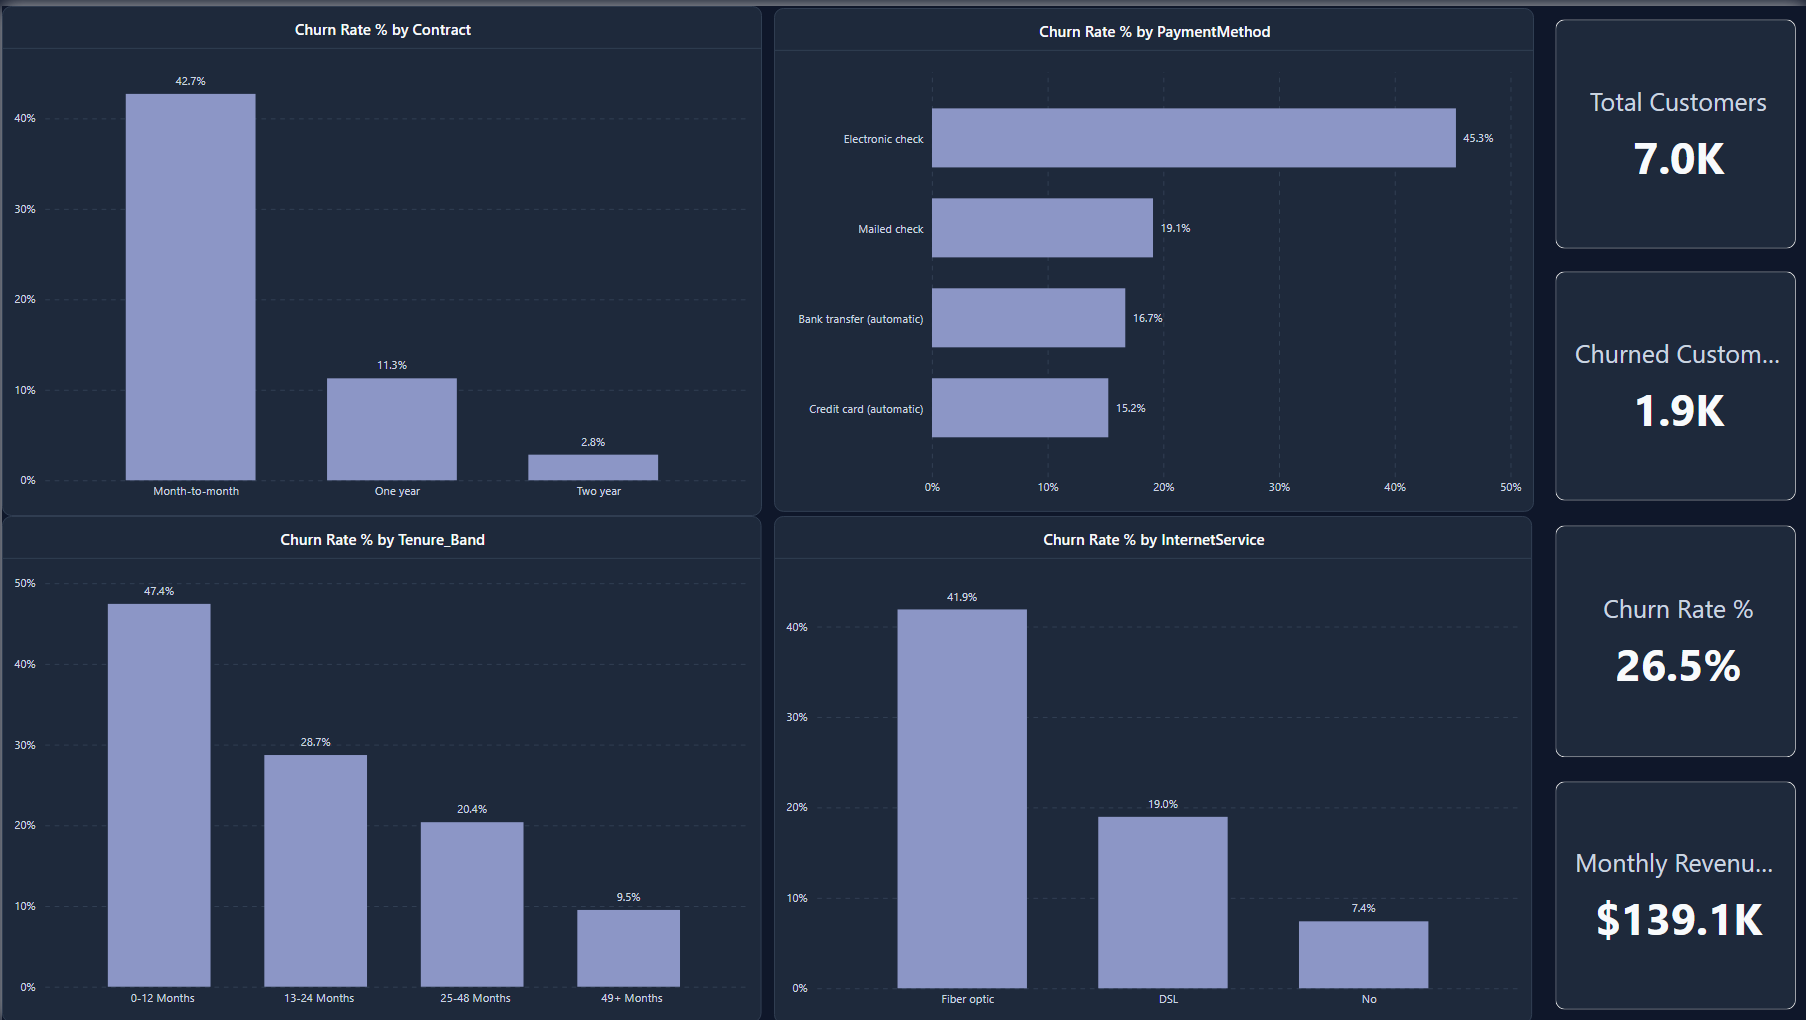

What the dashboard file says about the page in this screenshot:
{"tool":"powerbi","page":{"name":"Page 1","canvas":[1920,1080],"ordinal":0},"visuals":[{"type":"cardVisual","fields":{"Data":["Telco_Customer_Churn_Cleaned.Monthly Revenue at Risk"]},"box":[1640,812.5,280,267.5],"z":0},{"type":"cardVisual","fields":{"Data":["Telco_Customer_Churn_Cleaned.Churn Rate %"]},"box":[1641.2,541.2,280,271.2],"z":1000},{"type":"cardVisual","fields":{"Data":["Telco_Customer_Churn_Cleaned.Churned Customers"]},"box":[1640,271.2,280,268.8],"z":2000},{"type":"cardVisual","fields":{"Data":["CountNonNull(Telco_Customer_Churn_Cleaned.customerID)"]},"box":[1640,2.5,280,268.8],"z":3000},{"type":"clusteredColumnChart","fields":{"Category":["Telco_Customer_Churn_Cleaned.Contract"],"Y":["Telco_Customer_Churn_Cleaned.Churn Rate %"]},"box":[0,0,808.5,542.6],"z":4000},{"type":"clusteredColumnChart","fields":{"Category":["Telco_Customer_Churn_Cleaned.Tenure_Band"],"Y":["Telco_Customer_Churn_Cleaned.Churn Rate %"]},"box":[0,542.6,808.2,538.8],"z":5000},{"type":"clusteredBarChart","fields":{"Category":["Telco_Customer_Churn_Cleaned.PaymentMethod"],"Y":["Telco_Customer_Churn_Cleaned.Churn Rate %"]},"box":[821.3,2.1,808.5,536.2],"z":6000},{"type":"clusteredColumnChart","fields":{"Category":["Telco_Customer_Churn_Cleaned.InternetService"],"Y":["Telco_Customer_Churn_Cleaned.Churn Rate %"]},"box":[821.3,542.6,806.4,540.4],"z":7000}]}

Visuals, with their boxes in screenshot pixels (x1, y1, x2, y2), scaled from the page's 1920x1080 canvas onto the 1806x1020 screenshot:
cardVisual - Telco_Customer_Churn_Cleaned.Monthly Revenue at Risk: detection(1543, 767, 1805, 1019)
cardVisual - Telco_Customer_Churn_Cleaned.Churn Rate %: detection(1544, 511, 1805, 767)
cardVisual - Telco_Customer_Churn_Cleaned.Churned Customers: detection(1543, 256, 1805, 510)
cardVisual - CountNonNull(Telco_Customer_Churn_Cleaned.customerID): detection(1543, 2, 1805, 256)
clusteredColumnChart - Telco_Customer_Churn_Cleaned.Contract x Telco_Customer_Churn_Cleaned.Churn Rate %: detection(0, 0, 760, 512)
clusteredColumnChart - Telco_Customer_Churn_Cleaned.Tenure_Band x Telco_Customer_Churn_Cleaned.Churn Rate %: detection(0, 512, 760, 1019)
clusteredBarChart - Telco_Customer_Churn_Cleaned.PaymentMethod x Telco_Customer_Churn_Cleaned.Churn Rate %: detection(773, 2, 1533, 508)
clusteredColumnChart - Telco_Customer_Churn_Cleaned.InternetService x Telco_Customer_Churn_Cleaned.Churn Rate %: detection(773, 512, 1531, 1019)
